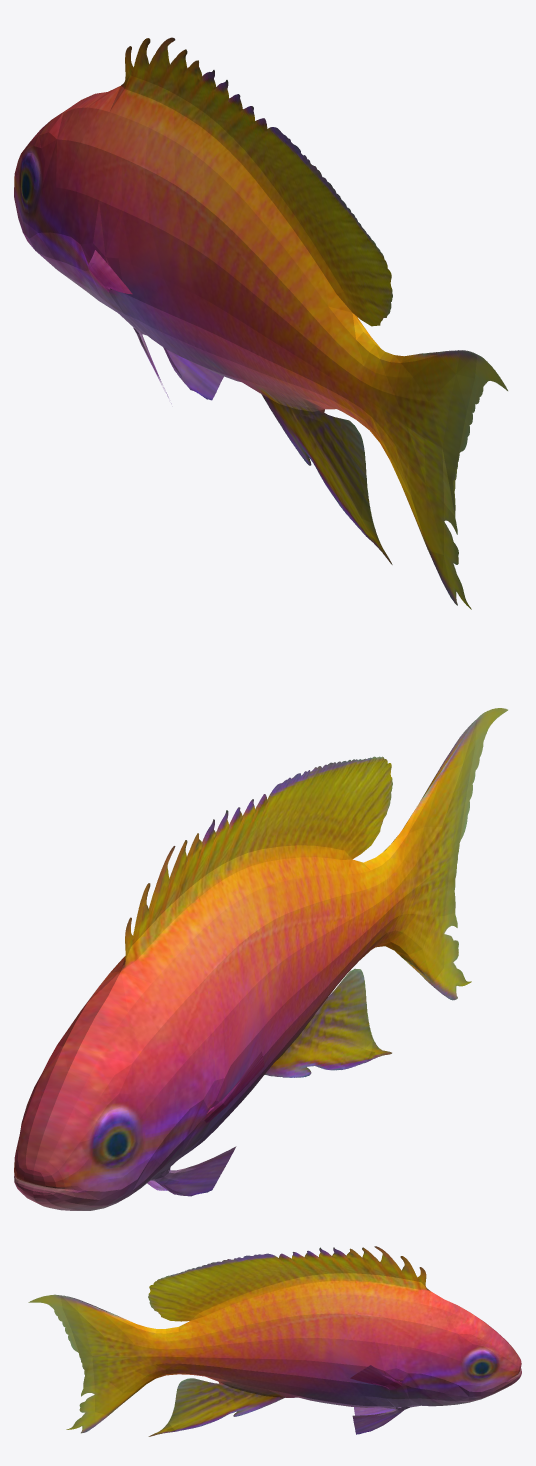
File: Anthias1.obj
3 renders of one model, top to bottom at view 1: azimuth 30°, elevation 25°; view 2: azimuth 150°, elevation 25°; view 3: azimuth 270°, elevation 25°, orthographic. The views are drawn at different scales.
Visible parts, largest first — view 1: Anthias01; view 2: Anthias01; view 3: Anthias01.
Part boxes in pixels (bbox=[...]): Anthias01: bbox=[14, 37, 507, 609]; Anthias01: bbox=[14, 708, 507, 1210]; Anthias01: bbox=[28, 1246, 521, 1436].
Bounding box in the file's own units: 1.51 × 2.81 × 6.09.
1 material, 1 textured.
